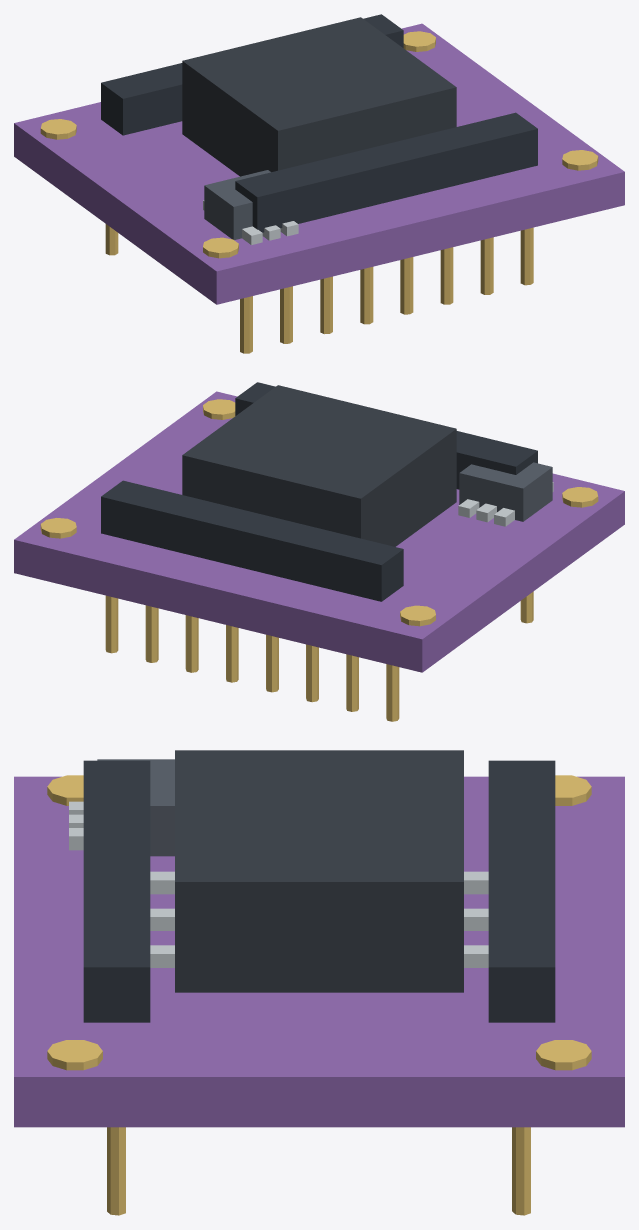
The model's file is product-8.glb.
3 views of the same model, one above another, from view 1: azimuth 30°, elevation 25°; view 2: azimuth 150°, elevation 25°; view 3: azimuth 270°, elevation 25° (orthographic). The views are drawn at different scales.
Visible parts, largest first — view 1: product-8; view 2: product-8; view 3: product-8.
Part boxes in pixels (x1,y1,x2,y2): product-8: (14,14,624,353); product-8: (14,382,624,721); product-8: (14,750,624,1215).
Size of the model in its own units: 0.64 by 0.29 by 0.55.
